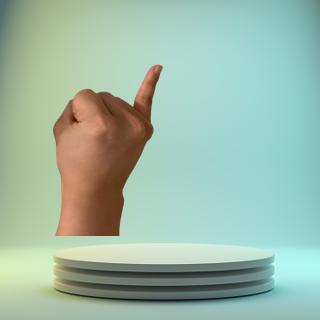FINE: (44, 59, 165, 205)
